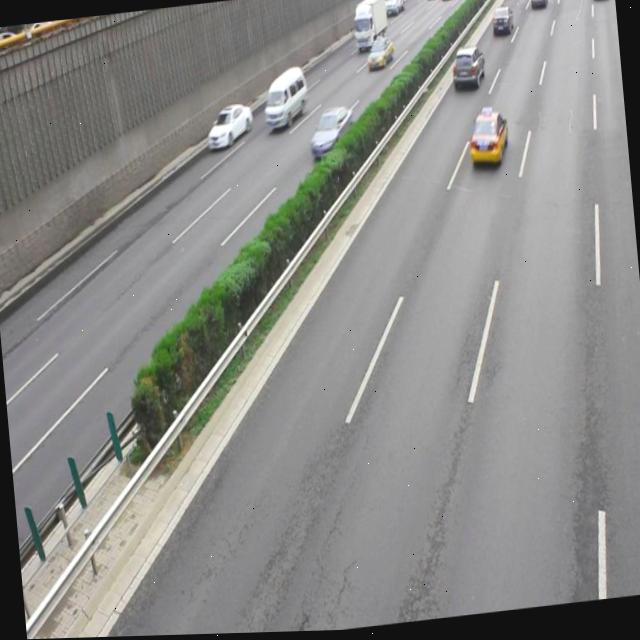car: (306, 106, 356, 163), (464, 109, 508, 173), (203, 101, 254, 152), (448, 49, 485, 96)
truck: (260, 66, 310, 133)
